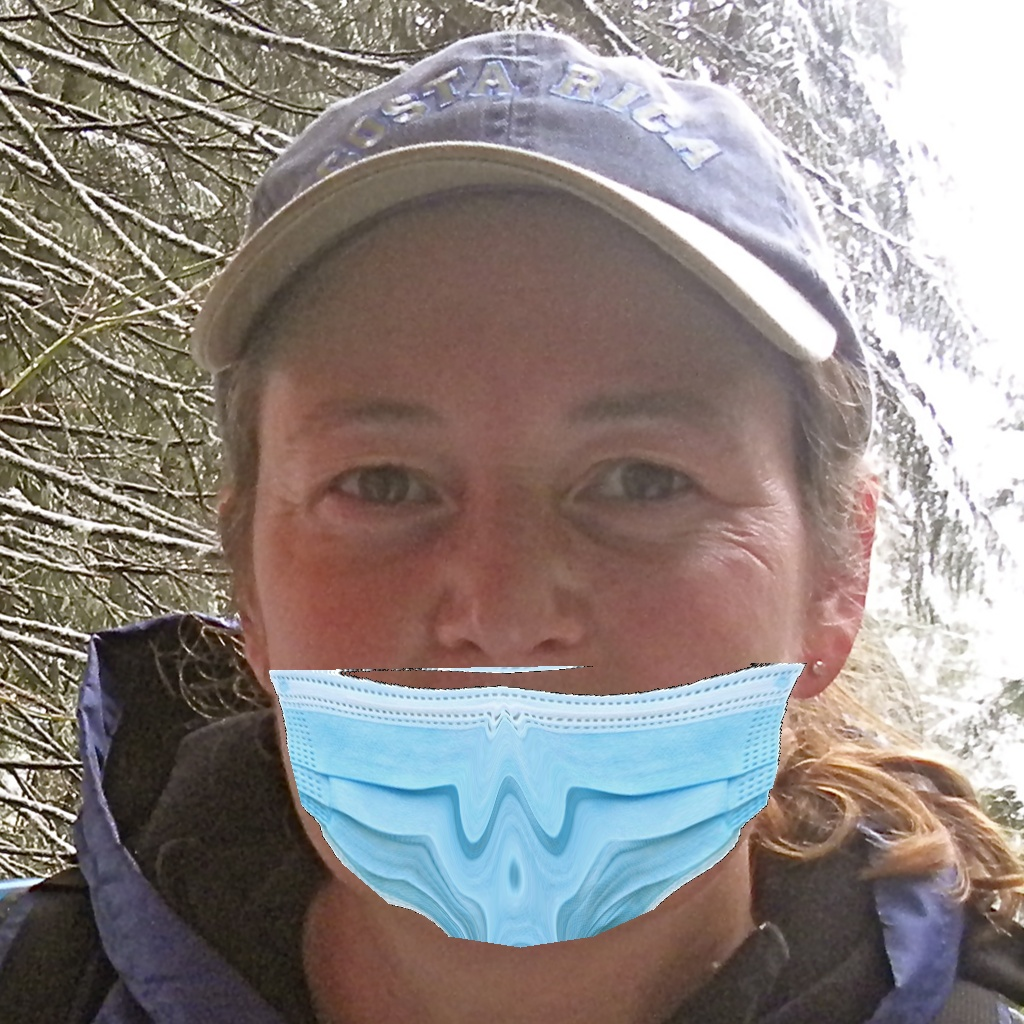mascarilla_mal_puesta: (217, 333, 807, 958)
